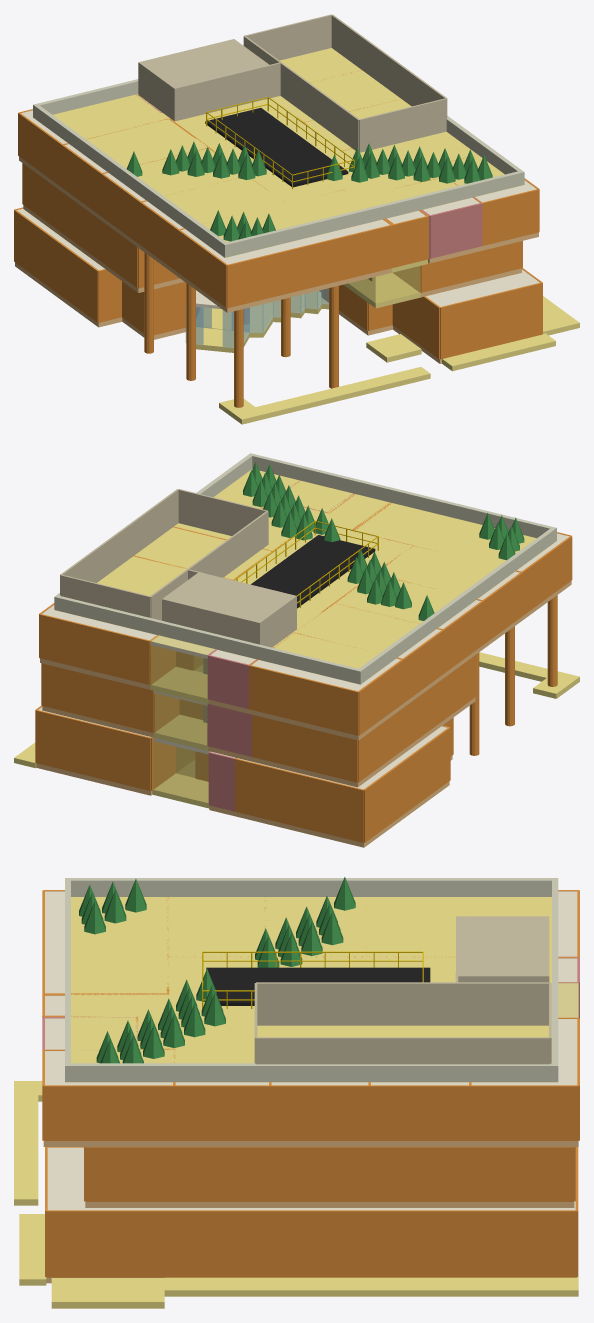
File: iict_building.obj
3 views of the same model, one above another, from view 1: azimuth 30°, elevation 25°; view 2: azimuth 150°, elevation 25°; view 3: azimuth 270°, elevation 25° (orthographic). The views are drawn at different scales.
Visible parts, largest first — view 1: RF, 1F, 3F, 2F, Misc; view 2: RF, 3F, 1F, 2F, Misc; view 3: RF, 1F, 3F, 2F.
Part boxes in pixels (bbox=[...]): RF: bbox=[33, 14, 524, 257]; 1F: bbox=[14, 207, 579, 424]; 3F: bbox=[18, 70, 539, 312]; 2F: bbox=[22, 163, 522, 308]; Misc: bbox=[144, 252, 338, 407]; RF: bbox=[54, 453, 556, 684]; 3F: bbox=[39, 480, 572, 740]; 1F: bbox=[14, 652, 579, 847]; 2F: bbox=[41, 654, 476, 787]; Misc: bbox=[203, 595, 557, 755]; RF: bbox=[65, 877, 558, 1082]; 1F: bbox=[14, 1081, 578, 1308]; 3F: bbox=[42, 890, 579, 1146]; 2F: bbox=[84, 1147, 575, 1207].
Bounding box in the file's own units: 30.17 × 14.7 × 31.84.
